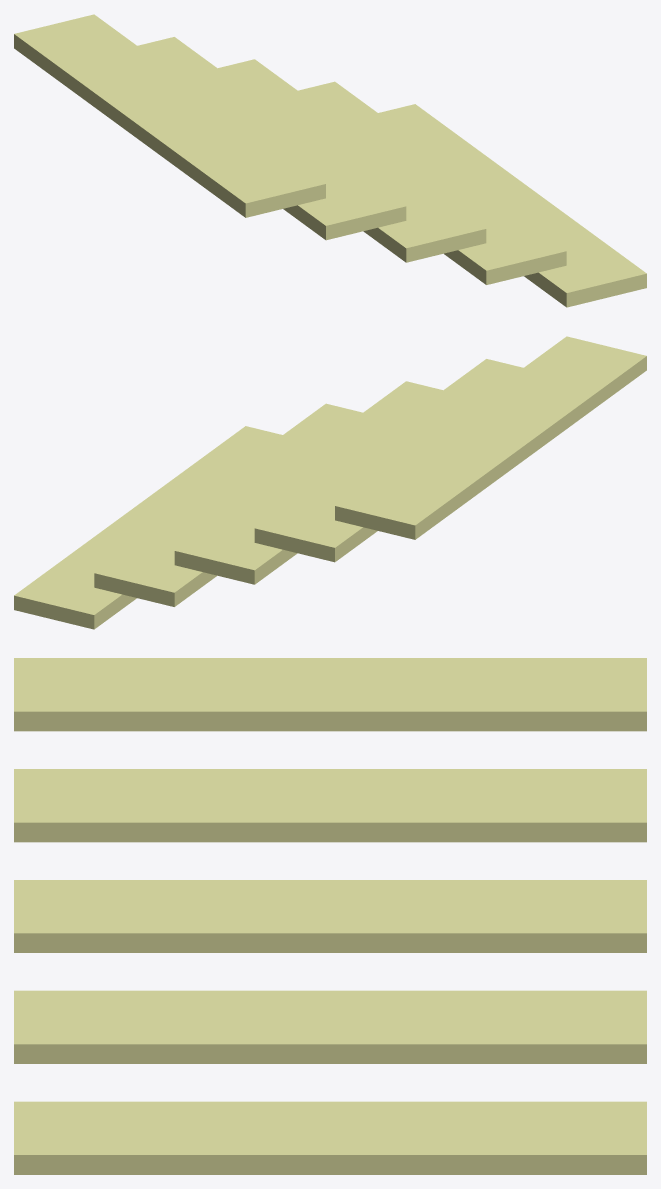
File: stairs.gltf
The picture shows the model from 3 angles, top to bottom: view 1: azimuth 30°, elevation 25°; view 2: azimuth 150°, elevation 25°; view 3: azimuth 270°, elevation 25°; orthographic projection. The views are drawn at different scales.
Visible parts, largest first — view 1: Stairs; view 2: Stairs; view 3: Stairs.
Boxes of the visible parts, bbox=[...] form: Stairs: bbox=[14, 14, 646, 307]; Stairs: bbox=[14, 336, 646, 629]; Stairs: bbox=[14, 658, 646, 1174].
Bounding box in the file's own units: 1 × 0.4344 × 1.
